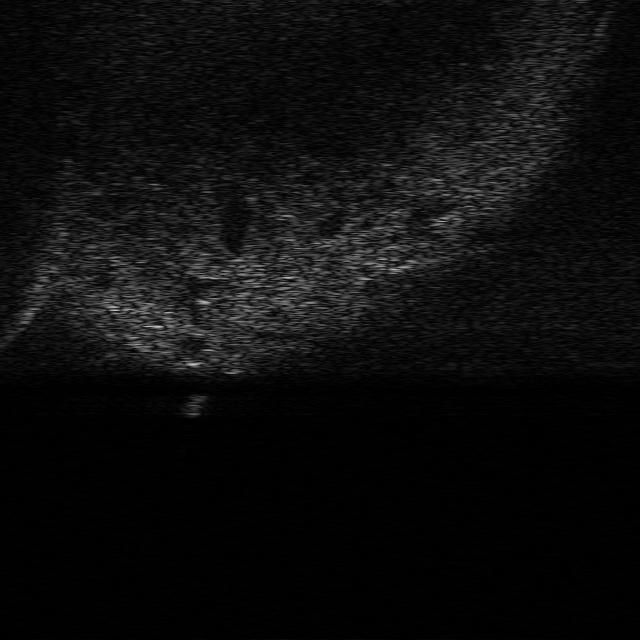cylinder: (176, 392, 209, 419)
